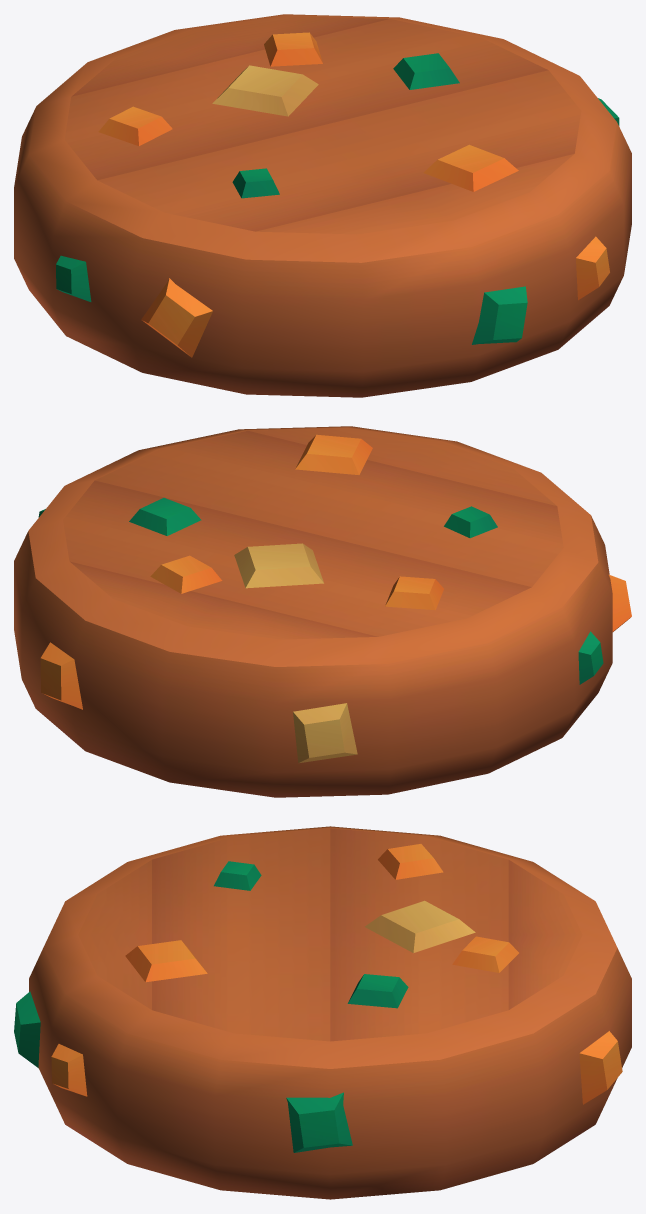
Rendered from food-ingredient-vegetableburger-cooked.glb.
3 views of the same model, one above another, from view 1: azimuth 30°, elevation 25°; view 2: azimuth 150°, elevation 25°; view 3: azimuth 270°, elevation 25° (orthographic). The views are drawn at different scales.
Parts seen in each view (by area): view 1: food_ingredient_vegetableburger_cooked; view 2: food_ingredient_vegetableburger_cooked; view 3: food_ingredient_vegetableburger_cooked.
Part boxes in pixels (x1,y1,x2,y2): food_ingredient_vegetableburger_cooked: (14,14,631,397); food_ingredient_vegetableburger_cooked: (14,426,631,797); food_ingredient_vegetableburger_cooked: (14,826,631,1199).
Size of the model in its own units: 0.728 by 0.216 by 0.7173.
Materials: 1 (1 with a texture image).
